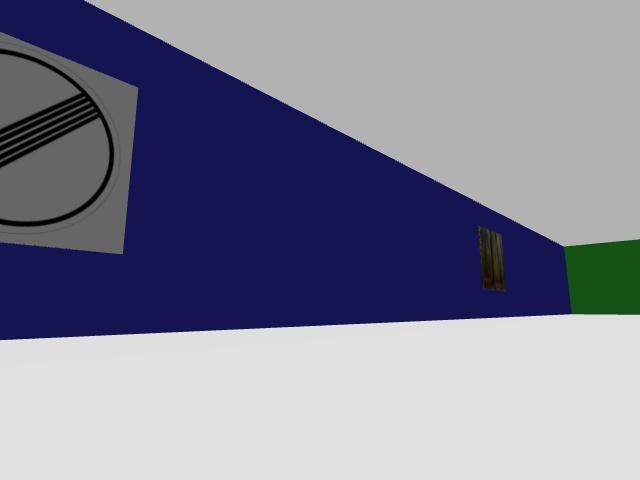fastsign: (0, 32, 136, 254)
